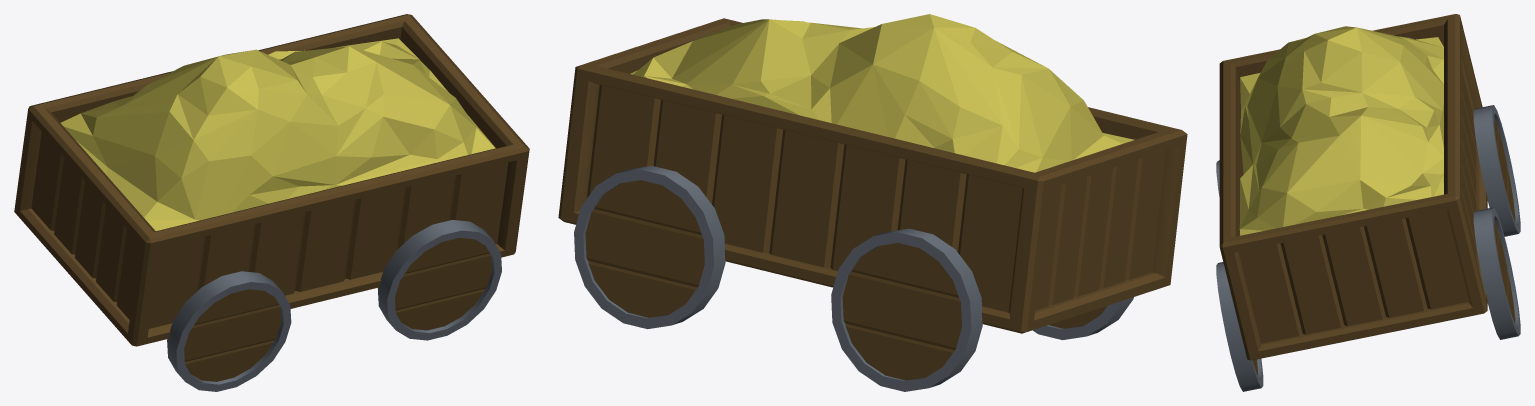
Rendered from wagon_root.fbx.
3 views of the same model, side by side, from view 1: azimuth 30°, elevation 25°; view 2: azimuth 150°, elevation 25°; view 3: azimuth 270°, elevation 25° (orthographic). The views are drawn at different scales.
Visible parts, largest first — view 1: wagon_sh_5, wagon_sh_26, wagon_sh_10, wagon_sh_28, wagon_sh_18, wagon_sh_3, wagon_sh_21, wagon_sh_1, wagon_sh_29, wagon_sh_2, wagon_sh_12, wagon_sh_14 (+7 smaller); view 2: wagon_sh_23, wagon_sh_7, wagon_sh_24, wagon_sh_3, wagon_sh_15, wagon_sh_25, wagon_sh_8, wagon_sh_21, wagon_sh_12, wagon_sh_18, wagon_sh_2, wagon_sh_16 (+5 smaller); view 3: wagon_sh_9, wagon_sh_14, wagon_sh_29, wagon_sh_25, wagon_sh_5, wagon_sh_6, wagon_sh_16, wagon_sh_23, wagon_sh_28, wagon_sh_13, wagon_sh_8, wagon_sh_24 (+9 smaller).
Part boxes in pixels (bbox=[...]): wagon_sh_5: bbox=[419, 128, 529, 331]; wagon_sh_26: bbox=[262, 223, 452, 349]; wagon_sh_10: bbox=[186, 154, 330, 295]; wagon_sh_28: bbox=[310, 95, 443, 227]; wagon_sh_18: bbox=[143, 56, 310, 177]; wagon_sh_3: bbox=[22, 92, 175, 200]; wagon_sh_21: bbox=[79, 162, 206, 312]; wagon_sh_1: bbox=[143, 281, 279, 391]; wagon_sh_29: bbox=[219, 49, 377, 145]; wagon_sh_2: bbox=[14, 201, 164, 346]; wagon_sh_12: bbox=[15, 151, 181, 312]; wagon_sh_14: bbox=[324, 47, 455, 108]; wagon_sh_23: bbox=[634, 147, 897, 375]; wagon_sh_7: bbox=[849, 80, 988, 264]; wagon_sh_24: bbox=[602, 80, 859, 202]; wagon_sh_3: bbox=[969, 86, 1141, 242]; wagon_sh_15: bbox=[865, 239, 1022, 391]; wagon_sh_25: bbox=[558, 146, 641, 326]; wagon_sh_8: bbox=[710, 29, 887, 128]; wagon_sh_21: bbox=[1071, 94, 1187, 234]; wagon_sh_12: bbox=[977, 216, 1114, 330]; wagon_sh_18: bbox=[897, 18, 1077, 104]; wagon_sh_2: bbox=[1021, 227, 1176, 333]; wagon_sh_16: bbox=[566, 52, 675, 155]; wagon_sh_9: bbox=[1313, 214, 1438, 346]; wagon_sh_14: bbox=[1283, 109, 1429, 230]; wagon_sh_29: bbox=[1266, 27, 1410, 140]; wagon_sh_25: bbox=[1399, 242, 1520, 339]; wagon_sh_5: bbox=[1216, 199, 1278, 391]; wagon_sh_6: bbox=[1246, 232, 1328, 384]; wagon_sh_16: bbox=[1389, 163, 1475, 261]; wagon_sh_23: bbox=[1461, 125, 1520, 327]; wagon_sh_28: bbox=[1219, 117, 1299, 219]; wagon_sh_13: bbox=[1246, 175, 1360, 244]; wagon_sh_8: bbox=[1360, 63, 1441, 157]; wagon_sh_24: bbox=[1421, 85, 1496, 249].
Bounding box in the file's own units: 4582 × 3195 × 3161.
